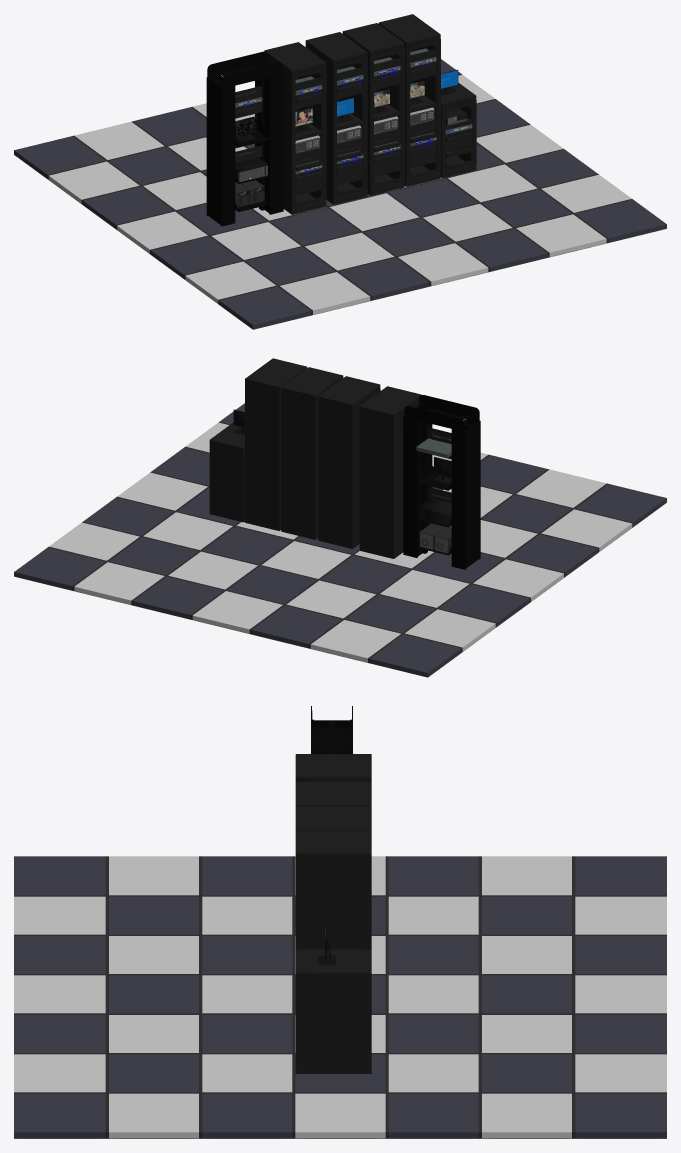
The model's file is base-four.glb.
The picture shows the model from 3 angles, top to bottom: view 1: azimuth 30°, elevation 25°; view 2: azimuth 150°, elevation 25°; view 3: azimuth 270°, elevation 25°; orthographic projection. The views are drawn at different scales.
Visible parts, largest first — view 1: Piso_Elevado, Plane.003, Caixa.008, Caixa.001, Caixa.002, Caixa.003, Porta.008, Porta.002, Porta.001, Porta.003, Plane.004, Caixa.004 (+2 smaller); view 2: Piso_Elevado, Caixa.008, Caixa.001, Plane.003, Caixa.002, Caixa.003, Caixa.004, Plane.004, PC_Sentey.001, Bandeja_Maior.003, Switch.001; view 3: Piso_Elevado, Caixa.004, Caixa.003, Caixa.008, Caixa.001, Caixa.002, Plane.004, Piso_Elevado_Baixo_low.
Part boxes in pixels (x1=…): Piso_Elevado: x1=14, y1=59, x2=666, y2=329; Plane.003: x1=206, y1=62, x2=283, y2=226; Caixa.008: x1=264, y1=42, x2=326, y2=214; Caixa.001: x1=305, y1=32, x2=367, y2=204; Caixa.002: x1=342, y1=23, x2=404, y2=195; Caixa.003: x1=378, y1=14, x2=440, y2=186; Porta.008: x1=290, y1=67, x2=326, y2=208; Porta.002: x1=368, y1=48, x2=404, y2=189; Porta.001: x1=331, y1=57, x2=367, y2=198; Porta.003: x1=404, y1=39, x2=440, y2=180; Plane.004: x1=207, y1=51, x2=282, y2=88; Caixa.004: x1=440, y1=82, x2=476, y2=178; Piso_Elevado: x1=14, y1=403, x2=666, y2=677; Caixa.008: x1=359, y1=386, x2=421, y2=558; Caixa.001: x1=318, y1=376, x2=380, y2=548; Plane.003: x1=403, y1=405, x2=480, y2=569; Caixa.002: x1=281, y1=367, x2=343, y2=539; Caixa.003: x1=245, y1=358, x2=307, y2=530; Caixa.004: x1=209, y1=422, x2=244, y2=522; Plane.004: x1=404, y1=395, x2=479, y2=431; PC_Sentey.001: x1=419, y1=499, x2=451, y2=526; Bandeja_Maior.003: x1=417, y1=461, x2=451, y2=490; Switch.001: x1=416, y1=438, x2=451, y2=457; Piso_Elevado: x1=14, y1=856, x2=666, y2=1138; Caixa.004: x1=295, y1=949, x2=371, y2=1073; Caixa.003: x1=295, y1=830, x2=371, y2=949; Caixa.008: x1=295, y1=754, x2=371, y2=781; Caixa.001: x1=295, y1=781, x2=371, y2=806; Caixa.002: x1=295, y1=806, x2=371, y2=830; Plane.004: x1=311, y1=706, x2=352, y2=753; Piso_Elevado_Baixo_low: x1=14, y1=1138, x2=666, y2=1138.
Bounding box in the file's own units: 6 × 2.36 × 6.
Materials: 18 (14 with a texture image).
